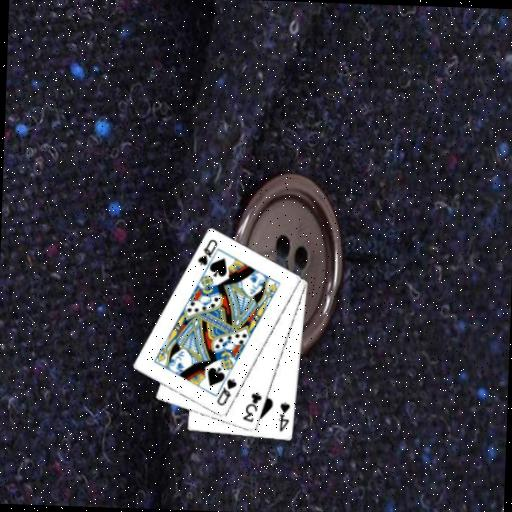3C: (239, 389, 264, 425)
4S: (275, 398, 292, 433)
QS: (214, 375, 239, 408), (194, 236, 219, 268)
